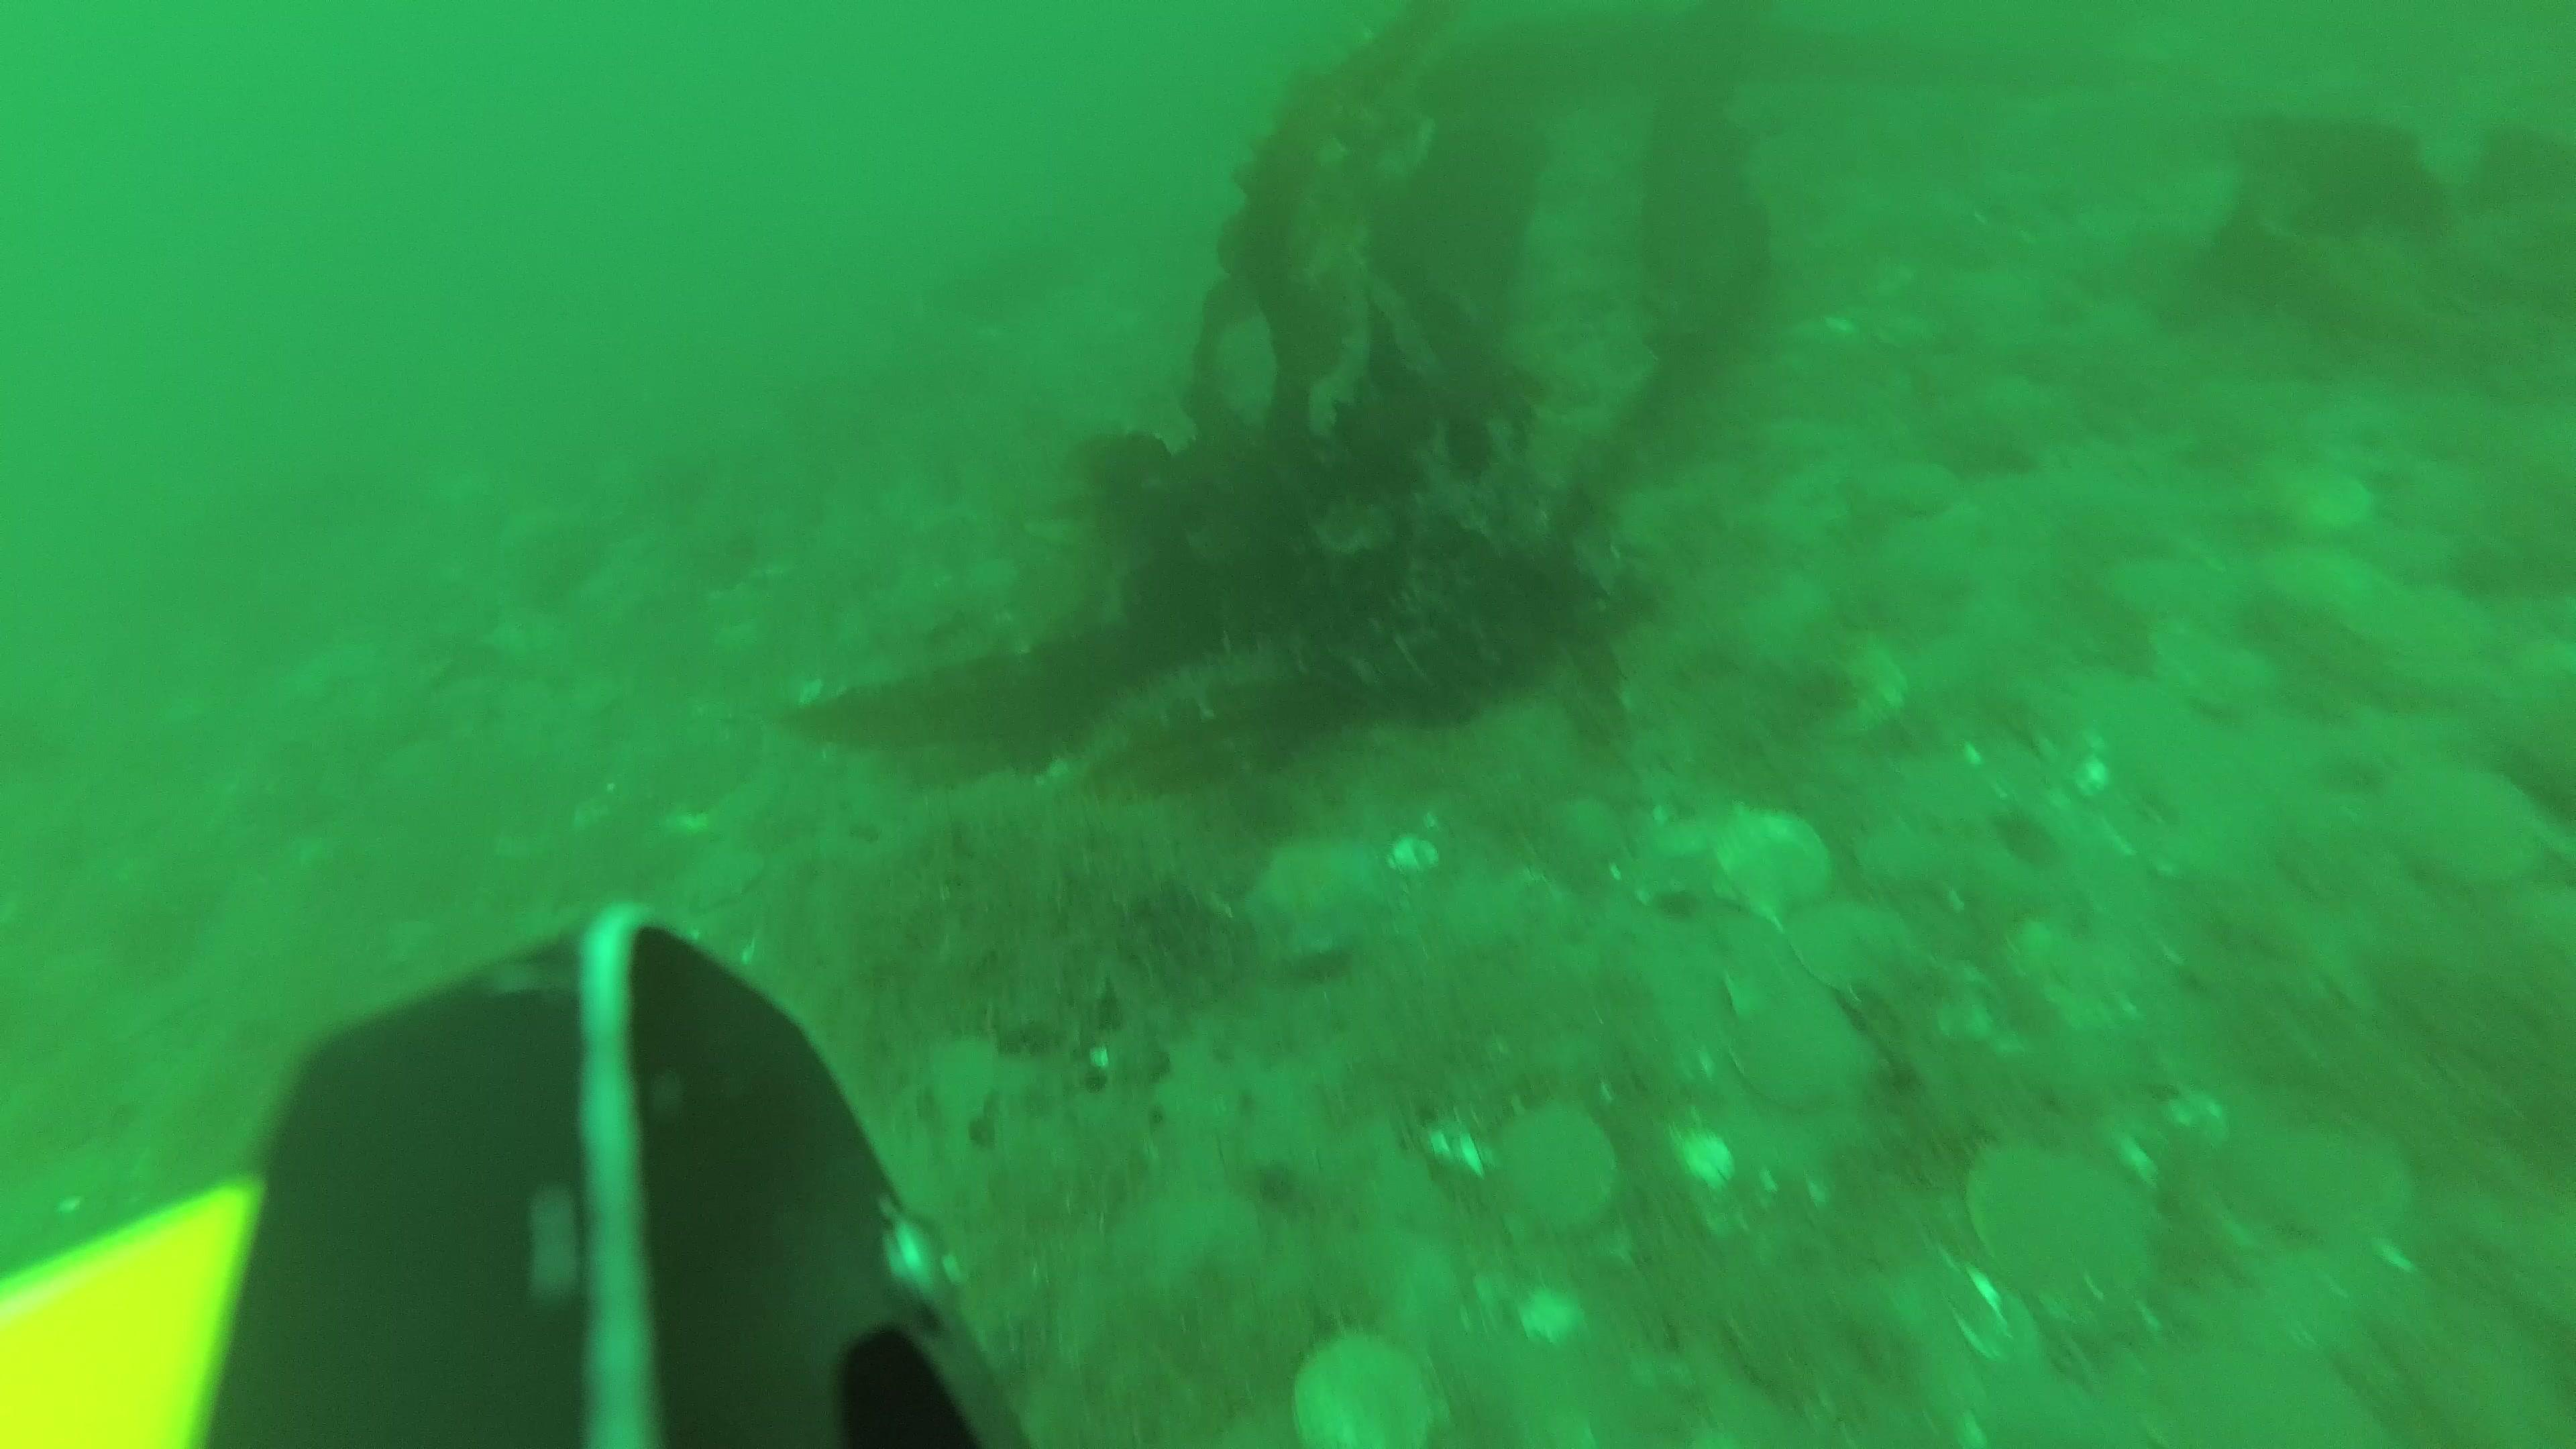scallop: (1966, 1143, 2146, 1322), (2212, 1095, 2406, 1253), (2385, 757, 2549, 899), (1707, 791, 1858, 927), (1490, 1106, 1624, 1258), (1725, 985, 1874, 1113), (1295, 1338, 1438, 1449), (1799, 897, 1921, 1005), (2158, 614, 2275, 720), (1867, 451, 1962, 529), (2277, 467, 2376, 541), (679, 851, 759, 915)
starfish: (1244, 840, 1378, 982)
